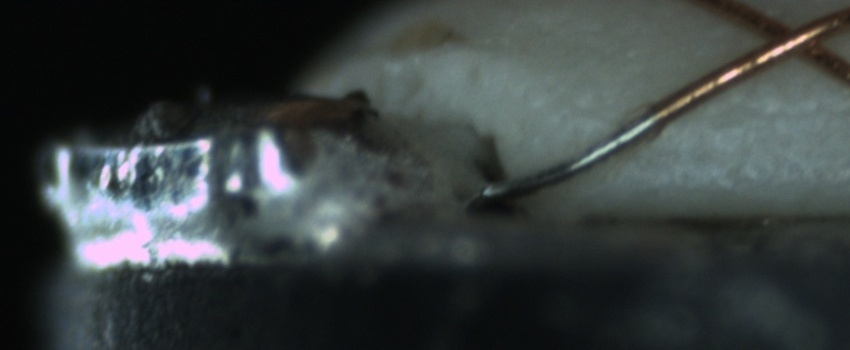CL: (740, 3, 844, 72)
DL: (678, 85, 849, 149)
TS: (482, 112, 658, 199)
